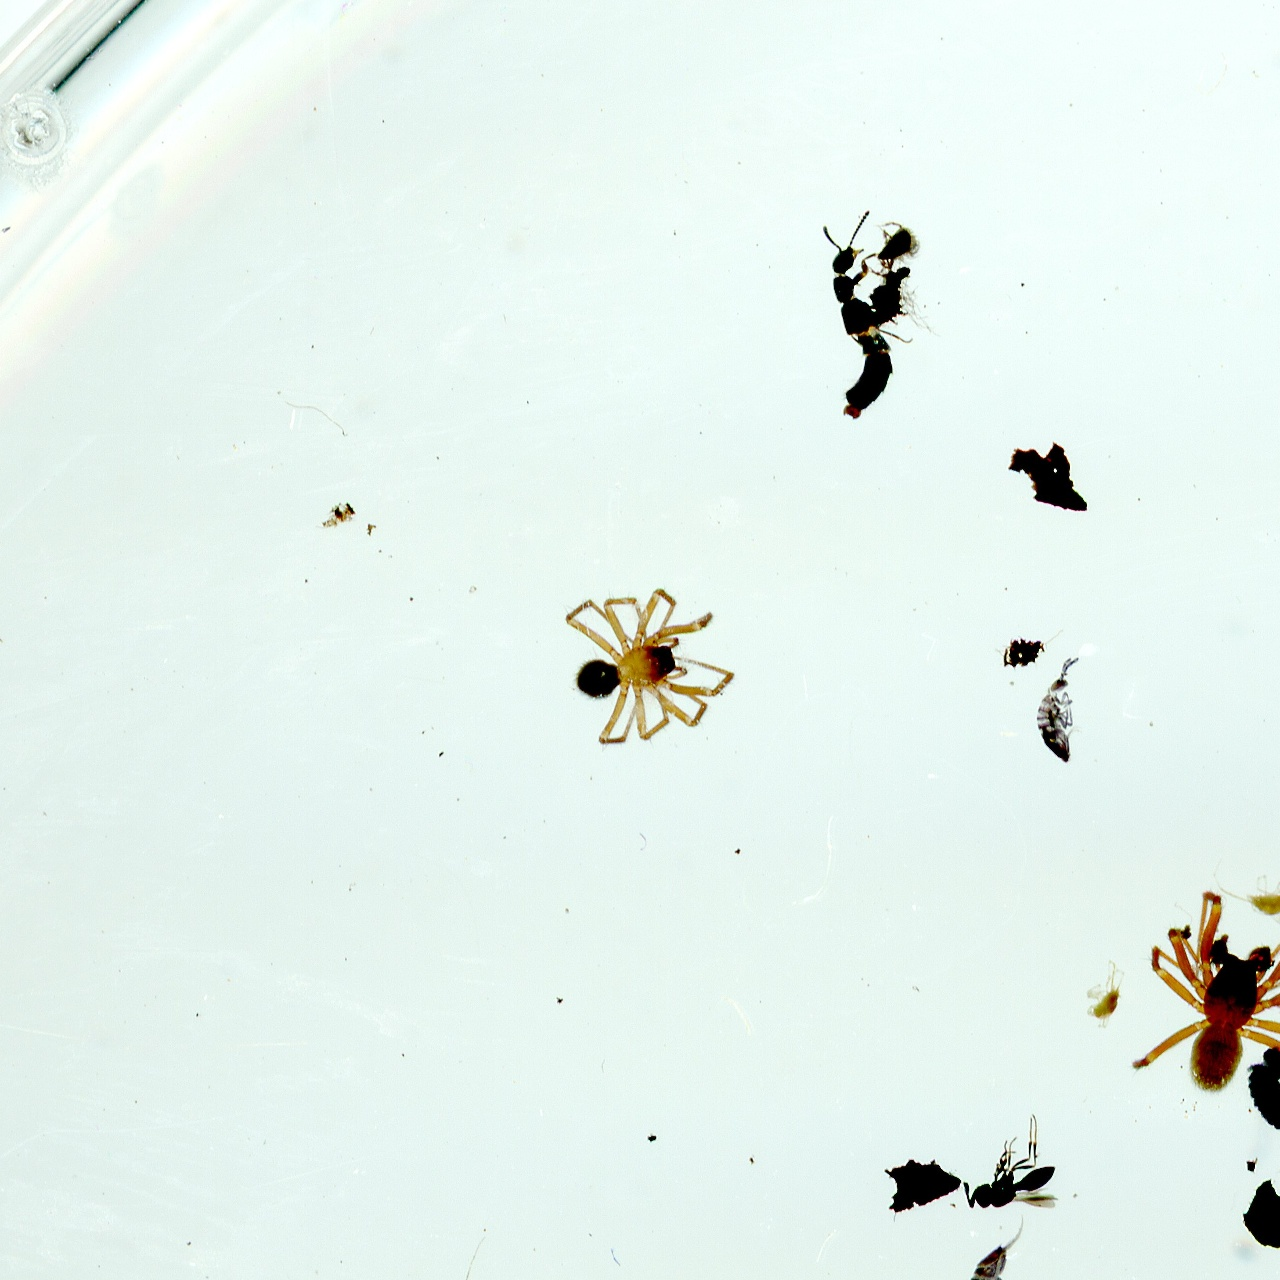arthropod: (1115, 876, 1280, 1130), (557, 576, 743, 756), (821, 206, 914, 417), (964, 1109, 1064, 1211), (1032, 656, 1085, 769), (1210, 852, 1280, 926), (966, 1214, 1034, 1280), (1238, 1054, 1280, 1138), (869, 219, 922, 282), (1084, 956, 1126, 1032), (1262, 1146, 1280, 1275)
